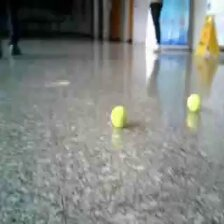tennis: (110, 105, 127, 128), (187, 93, 202, 114)
